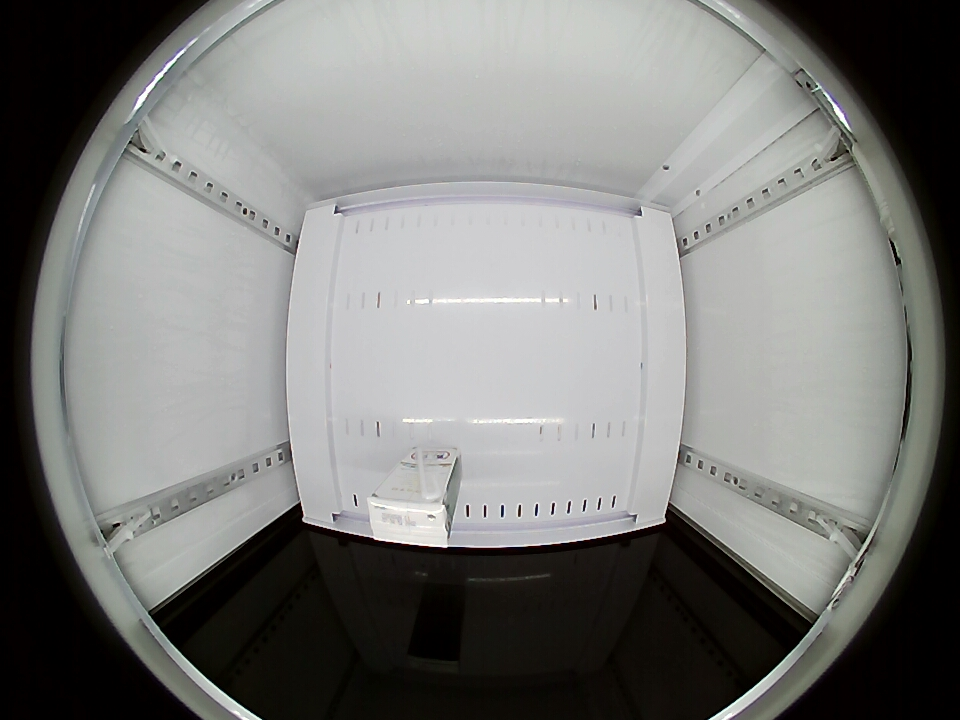jindian: (366, 477, 454, 547)
